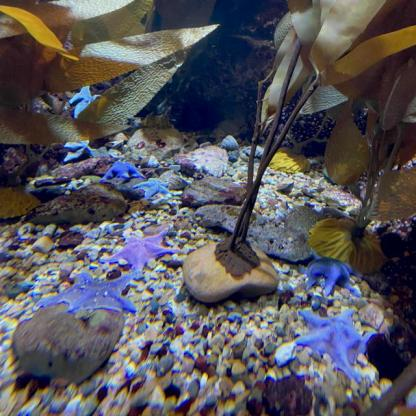starfish: (295, 307, 377, 381), (34, 270, 146, 314), (98, 228, 179, 270), (300, 252, 368, 301), (68, 83, 102, 120), (100, 160, 144, 182), (135, 176, 172, 200), (62, 139, 98, 163)
